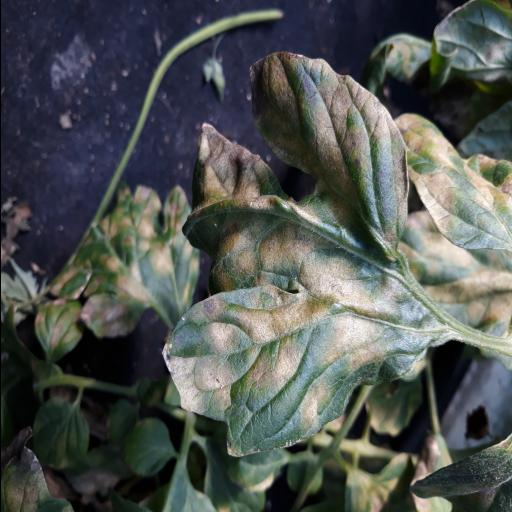Leaf Mold: (162, 50, 408, 458), (70, 186, 200, 338)
